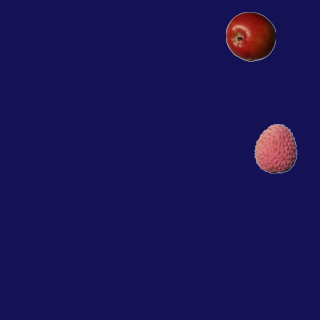Apple Braeburn: (225, 11, 275, 61)
Lychee: (250, 123, 300, 173)
